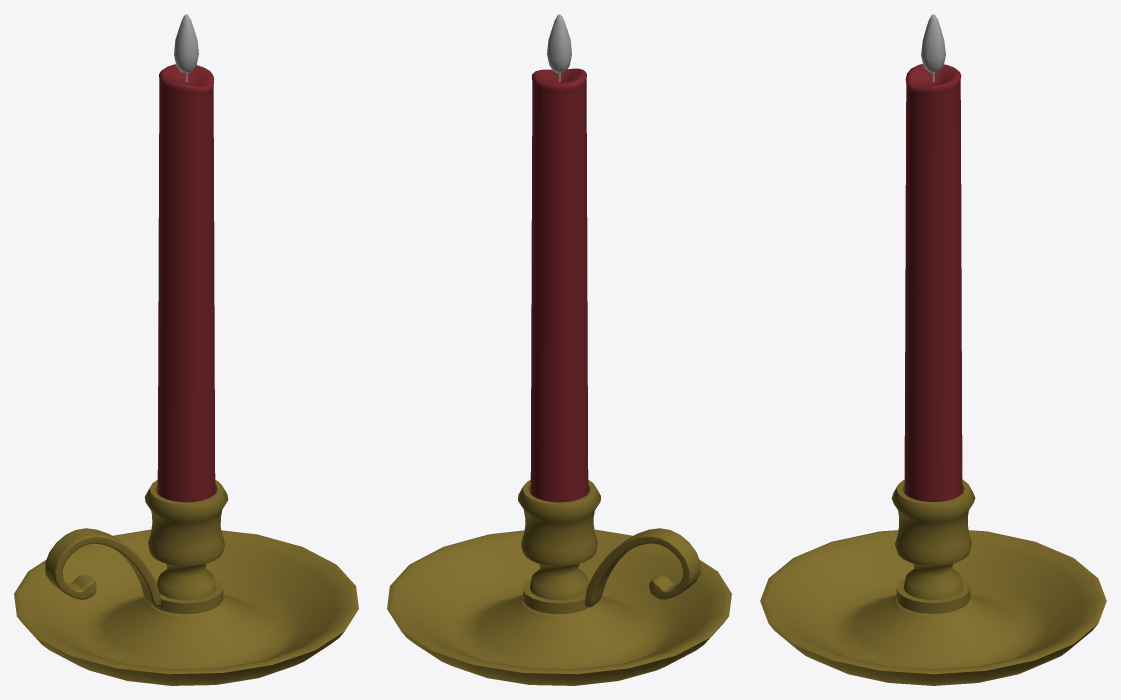
The model's file is Candleholder.fbx.
The picture shows the model from 3 angles, left to right: view 1: azimuth 30°, elevation 25°; view 2: azimuth 150°, elevation 25°; view 3: azimuth 270°, elevation 25°; orthographic projection.
Parts seen in each view (by area): view 1: holder_body, candle, holder_handle, flame; view 2: holder_body, candle, holder_handle, flame; view 3: holder_body, candle, flame.
Part boxes in pixels (box(x1,y1,x2,y2)): holder_body: box(14, 480, 358, 685); candle: box(157, 64, 215, 502); holder_handle: box(45, 528, 161, 607); flame: box(174, 14, 198, 72); holder_body: box(387, 480, 731, 685); candle: box(530, 68, 588, 502); holder_handle: box(585, 528, 700, 607); flame: box(547, 14, 571, 72); holder_body: box(760, 479, 1106, 685); candle: box(904, 64, 962, 501); flame: box(921, 14, 945, 73).
Bounding box in the file's own units: 15.9 × 31.81 × 15.9.
